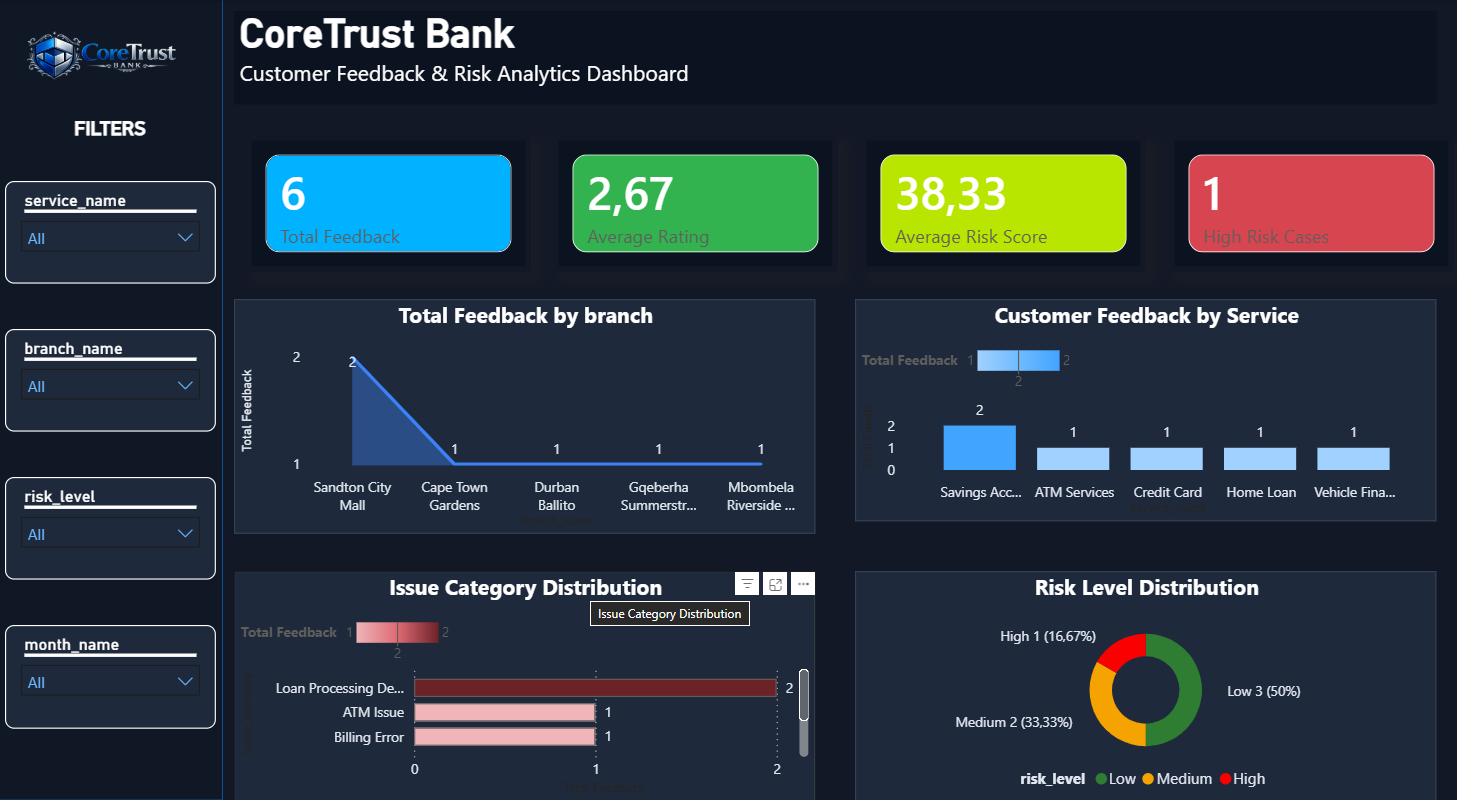

The page's visual inventory and layout, read from the dashboard file:
{"tool":"powerbi","page":{"name":"Executive Overview","canvas":[1280,720],"ordinal":0},"visuals":[{"type":"shape","box":[0,0,198.4,720],"z":0},{"type":"cardVisual","fields":{"Data":["fact_feedback.Average Rating"]},"box":[488,136,250,120],"z":1000},{"type":"cardVisual","fields":{"Data":["fact_feedback.Average Risk Score"]},"box":[758,136,250,120],"z":2000},{"type":"cardVisual","fields":{"Data":["fact_feedback.High Risk Cases"]},"box":[1028,136,250,120],"z":3000},{"type":"textbox","title":"CoreTrust Bank","box":[208,27,1055,82],"z":4000},{"type":"areaChart","title":"Total Feedback by branch","fields":{"Category":["dim_branch.branch_name"],"Y":["fact_feedback.Total Feedback"]},"box":[208,280,510,206],"z":5000},{"type":"clusteredColumnChart","title":"Customer Feedback by Service","fields":{"Category":["dim_service.service_name"],"Y":["fact_feedback.Total Feedback"]},"box":[753,280,510,195],"z":6000},{"type":"donutChart","title":"Risk Level Distribution","fields":{"Category":["fact_feedback.risk_level"],"Y":["fact_feedback.Total Feedback"]},"box":[753,518,510,202],"z":7000},{"type":"clusteredBarChart","title":"Issue Category Distribution","fields":{"Category":["dim_issue.issue_category"],"Y":["fact_feedback.Total Feedback"]},"box":[208,518,510,202],"z":8000},{"type":"slicer","fields":{"Values":["dim_branch.branch_name"]},"box":[7.2,306.1,184.9,89.8],"z":9000},{"type":"slicer","fields":{"Values":["dim_service.service_name"]},"box":[7.2,176,184.9,89.8],"z":10000},{"type":"slicer","fields":{"Values":["fact_feedback.risk_level"]},"box":[7.2,436.3,184.9,89.8],"z":11000},{"type":"slicer","fields":{"Values":["dim_date.month_name"]},"box":[7.2,565.6,184.9,90.7],"z":12000},{"type":"cardVisual","fields":{"Data":["fact_feedback.Total Feedback"]},"box":[218,136,250,120],"z":13000},{"type":"image","box":[0,0,198,136],"z":14000},{"type":"shape","title":"FILTERS","box":[0,120,198,32],"z":14001}]}

Visuals, with their boxes in screenshot pixels (x1, y1, x2, y2), scaled from the page's 1280x720 canvas onto the 1457x800 screenshot:
shape: (0,0,226,799)
cardVisual - fact_feedback.Average Rating: (555,151,840,284)
cardVisual - fact_feedback.Average Risk Score: (863,151,1147,284)
cardVisual - fact_feedback.High Risk Cases: (1170,151,1455,284)
"CoreTrust Bank" textbox: (237,30,1438,121)
"Total Feedback by branch" areaChart: (237,311,817,540)
"Customer Feedback by Service" clusteredColumnChart: (857,311,1438,528)
"Risk Level Distribution" donutChart: (857,576,1438,799)
"Issue Category Distribution" clusteredBarChart: (237,576,817,799)
slicer - dim_branch.branch_name: (8,340,219,440)
slicer - dim_service.service_name: (8,196,219,295)
slicer - fact_feedback.risk_level: (8,485,219,585)
slicer - dim_date.month_name: (8,628,219,729)
cardVisual - fact_feedback.Total Feedback: (248,151,533,284)
image: (0,0,225,151)
"FILTERS" shape: (0,133,225,169)
